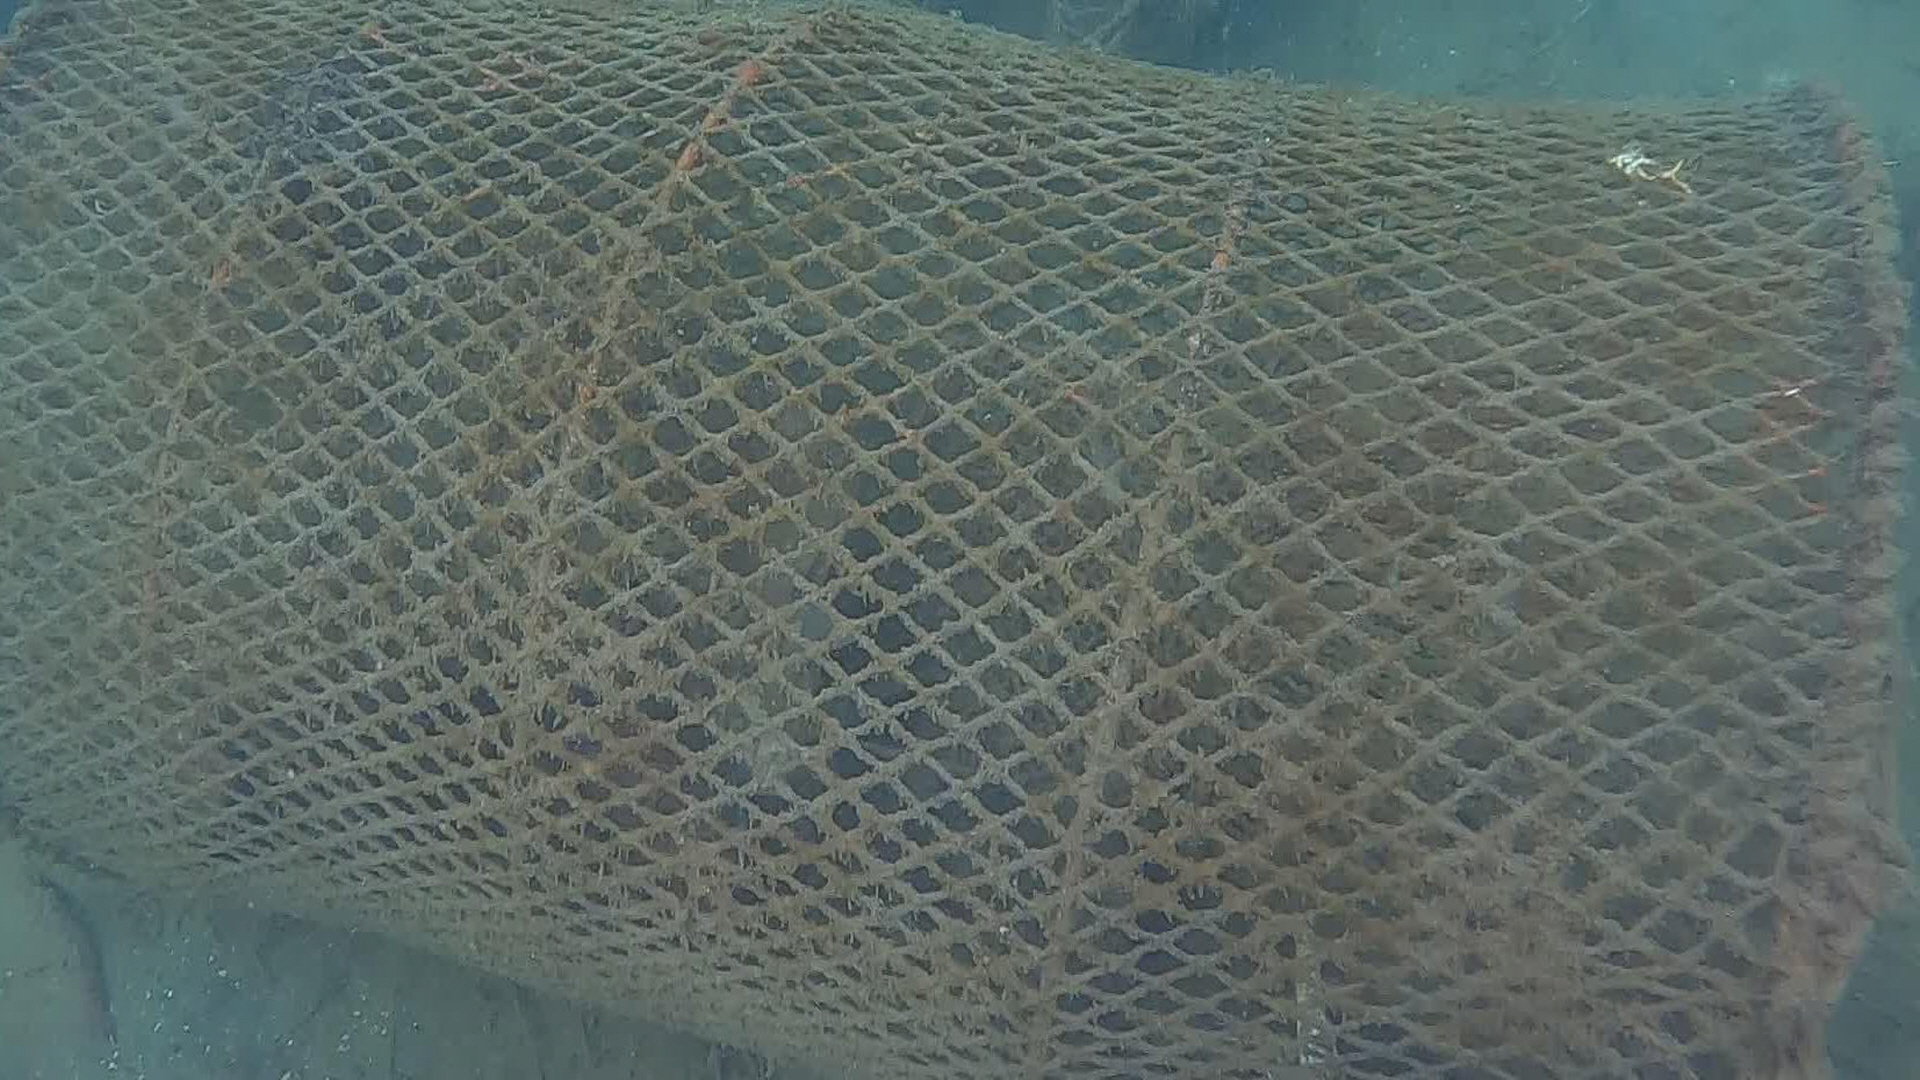spring fish trap: (0, 0, 1908, 1080)
